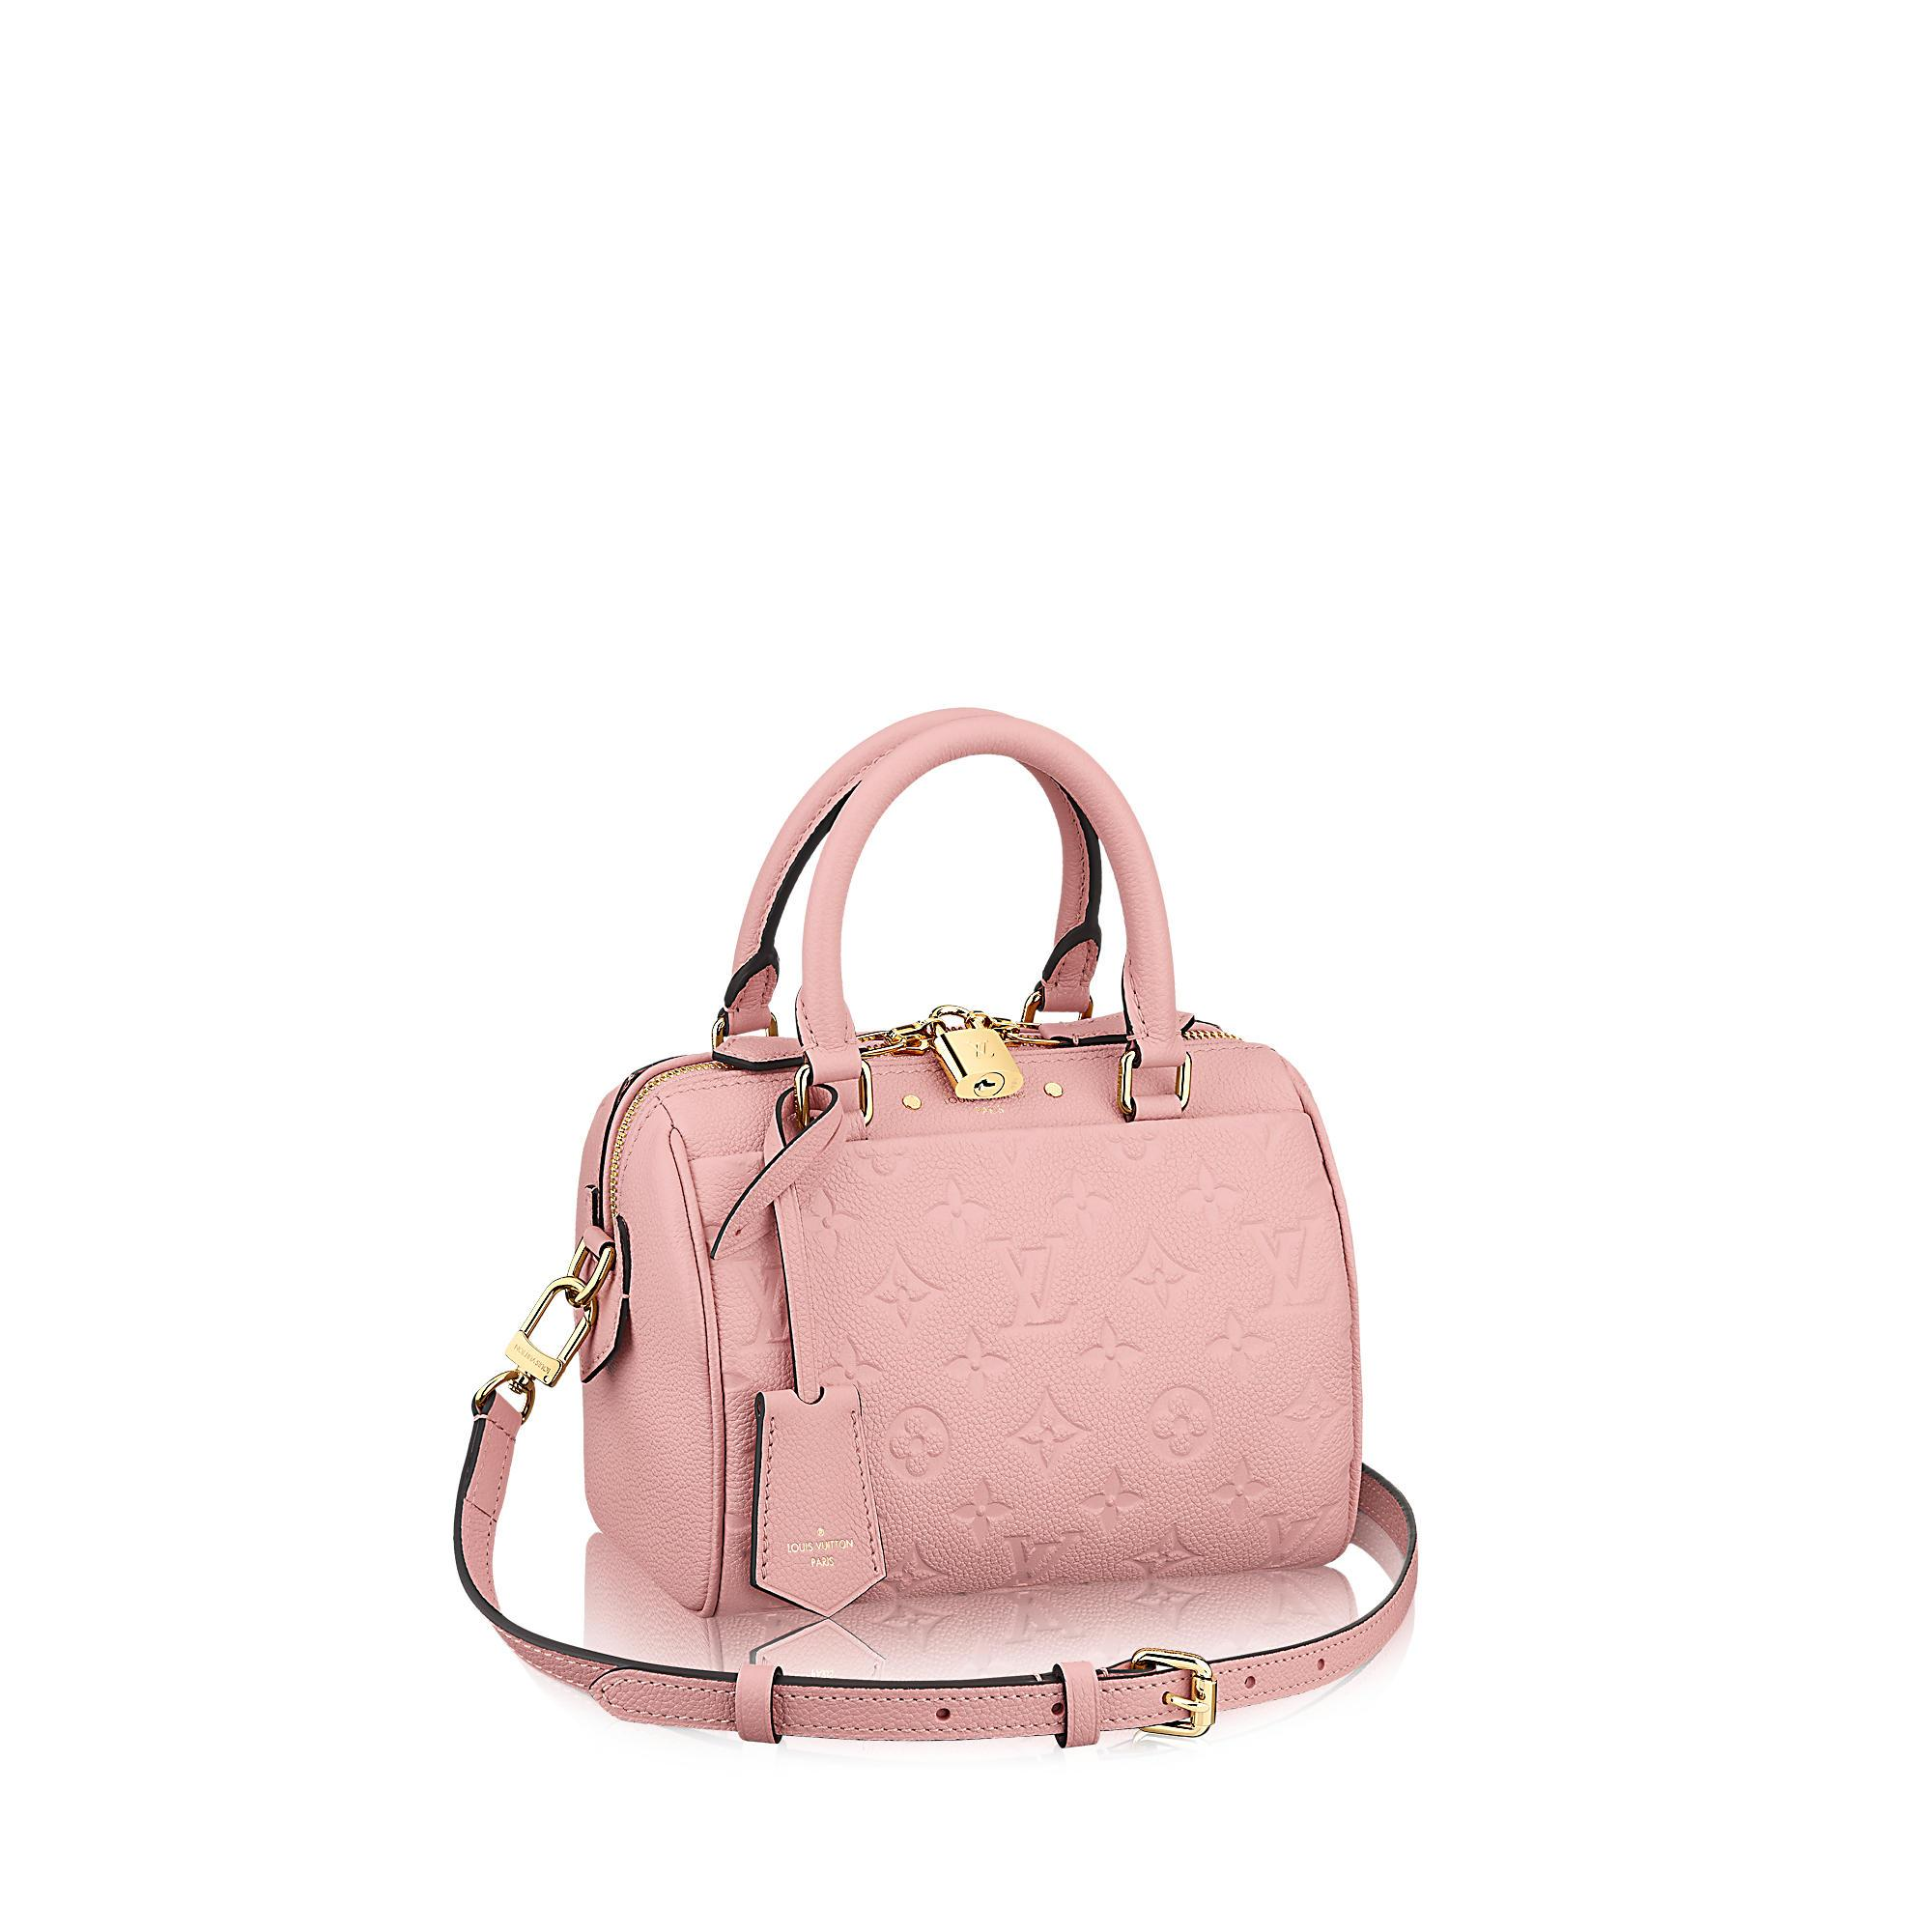LOUIS-VUITTON: (1237, 1215, 1329, 1316), (991, 1235, 1077, 1338), (727, 1256, 798, 1350), (998, 1529, 1083, 1583), (1261, 1506, 1332, 1569), (964, 1035, 998, 1067)
